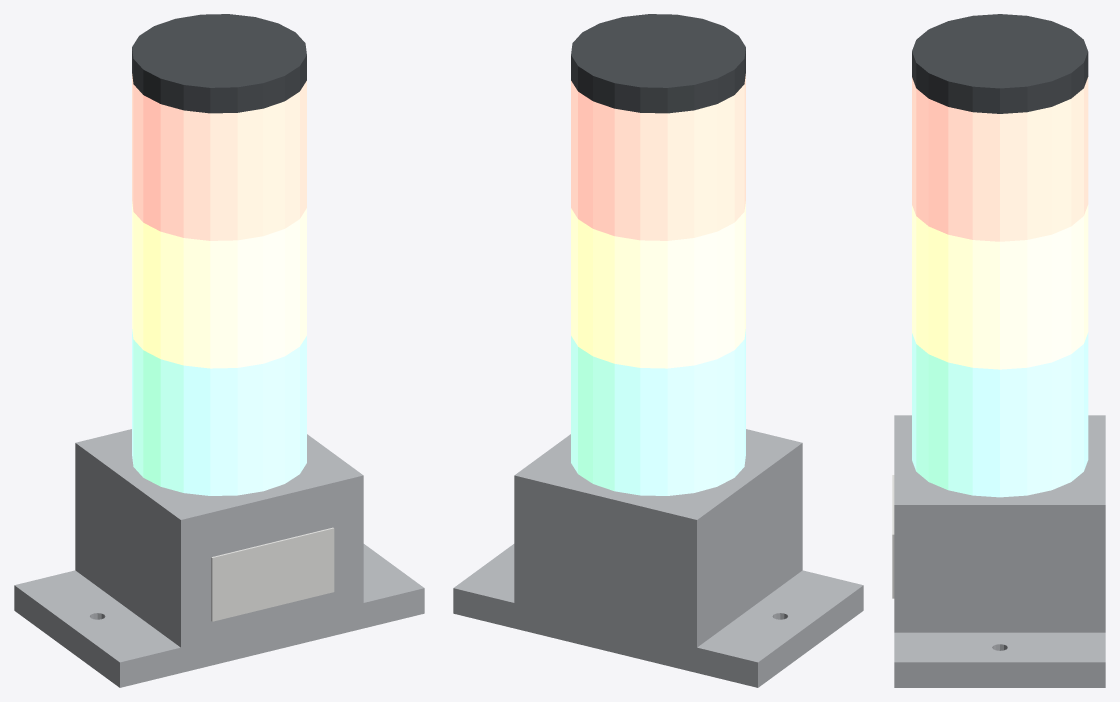
File: stack-light.glb
3 views of the same model, side by side, from view 1: azimuth 30°, elevation 25°; view 2: azimuth 150°, elevation 25°; view 3: azimuth 270°, elevation 25° (orthographic).
Visible parts, largest first — view 1: body, lamp-yellow, lamp-red, lamp-green; view 2: body, lamp-yellow, lamp-red, lamp-green; view 3: body, lamp-red, lamp-green, lamp-yellow.
Part boxes in pixels (x1=…): body: x1=14, y1=14, x2=424, y2=687; lamp-yellow: x1=132, y1=201, x2=306, y2=368; lamp-red: x1=132, y1=74, x2=306, y2=240; lamp-green: x1=132, y1=329, x2=306, y2=495; body: x1=453, y1=14, x2=863, y2=687; lamp-yellow: x1=571, y1=201, x2=745, y2=368; lamp-red: x1=571, y1=74, x2=745, y2=240; lamp-green: x1=571, y1=329, x2=745, y2=495; body: x1=892, y1=14, x2=1105, y2=687; lamp-red: x1=912, y1=77, x2=1088, y2=241; lamp-green: x1=912, y1=332, x2=1088, y2=497; lamp-yellow: x1=912, y1=205, x2=1088, y2=369.
Size of what is drawn, in the model's own units: 0.1 by 0.176 by 0.0606.
